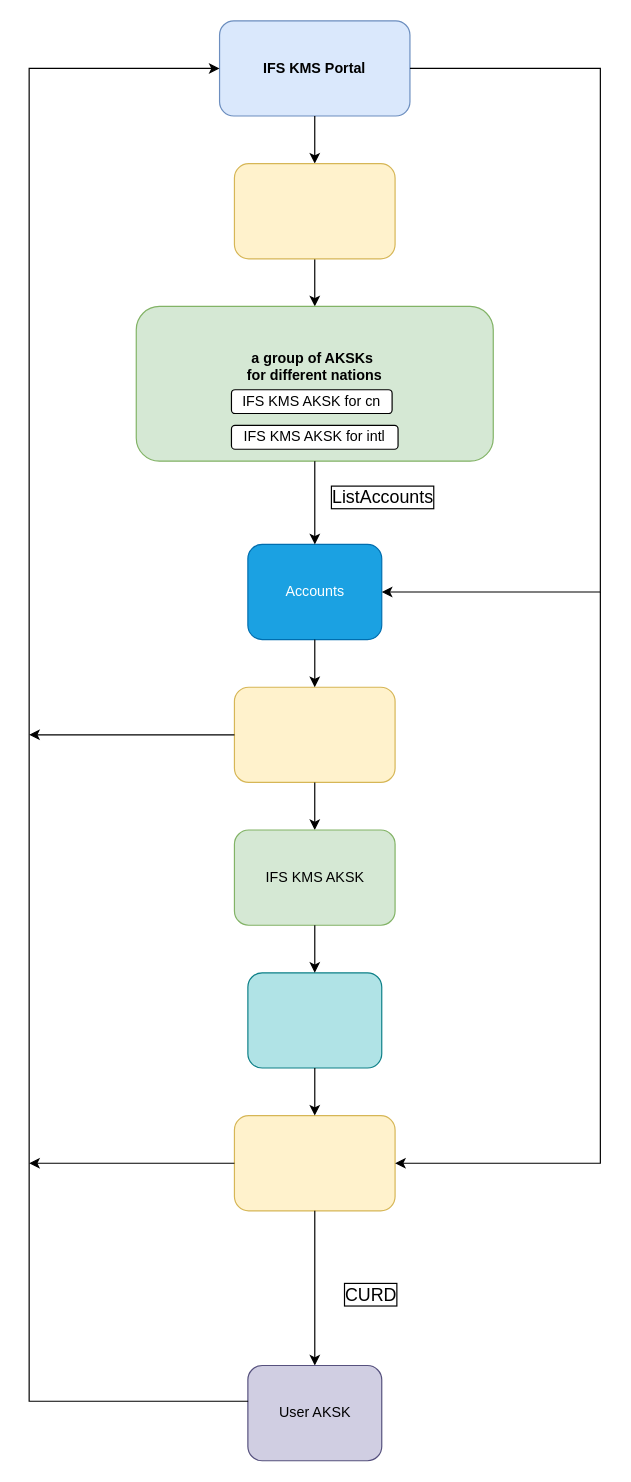
This 631x1482 diagram has some shape labels left out. The centre of each missing label's shape, as x and y in pixels:
"RAM Users" belongs at point 314,1020.
"User Input Account" belongs at point 314,734.
"User Input provider env" belongs at point 314,210.
"User Input RAM User" belongs at point 314,1162.
